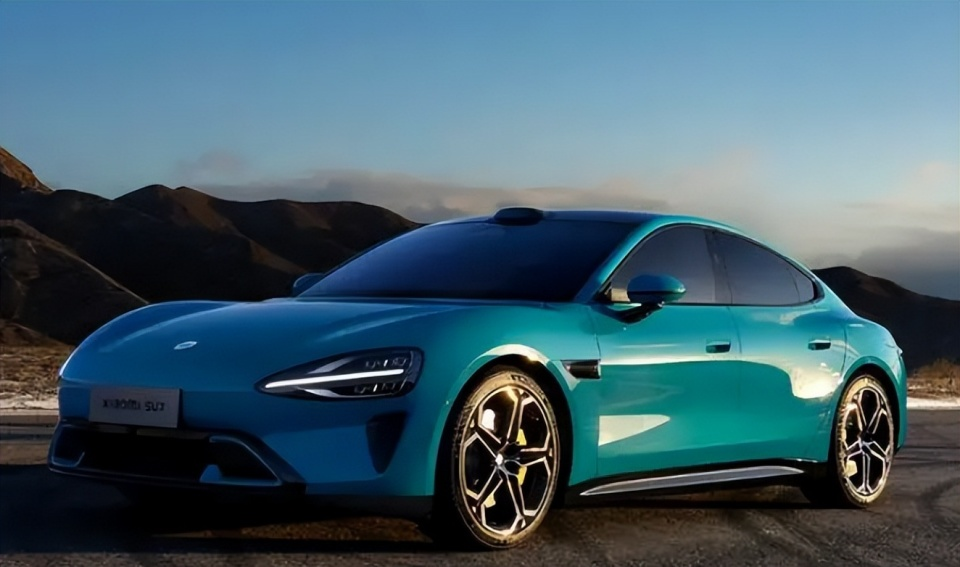su7: (49, 193, 907, 531)
